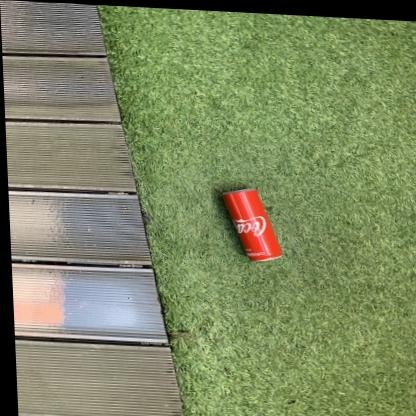trash: (224, 189, 281, 260)
